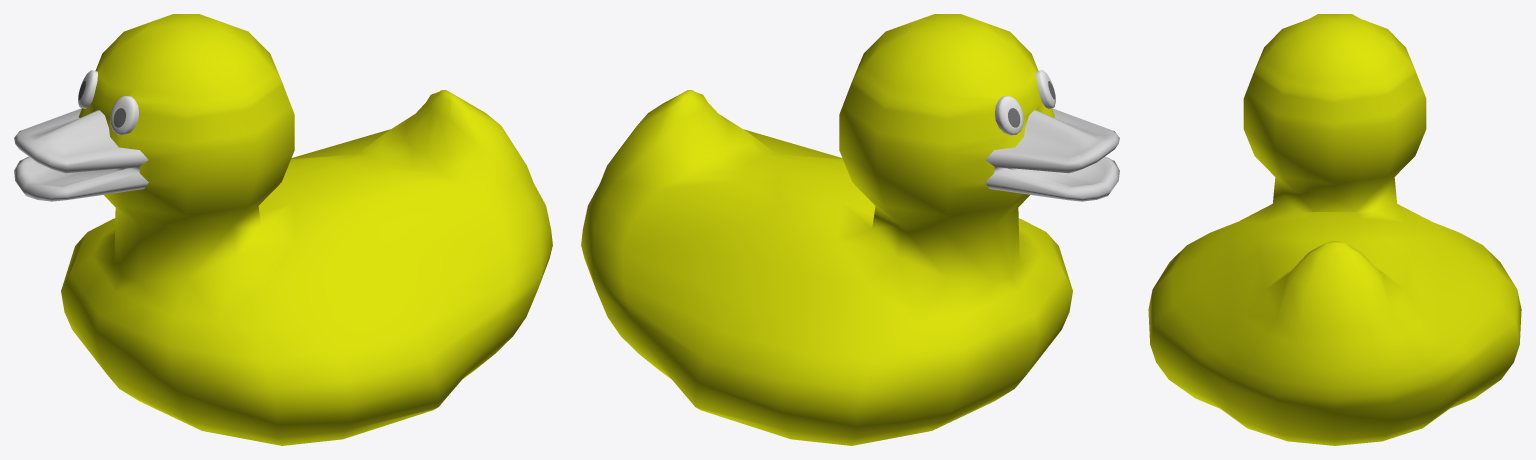
The model's file is Patito.fbx.
3 renders of one model, left to right at view 1: azimuth 30°, elevation 25°; view 2: azimuth 150°, elevation 25°; view 3: azimuth 270°, elevation 25°, orthographic. The views are drawn at different scales.
Visible parts, largest first — view 1: duck:polySurface5; view 2: duck:polySurface5; view 3: duck:polySurface5.
Part boxes in pixels (x1,y1,x2,y2): duck:polySurface5: (14, 14, 552, 445); duck:polySurface5: (581, 14, 1119, 445); duck:polySurface5: (1148, 14, 1521, 445).
Bounding box in the file's own units: 0.6274 × 0.43 × 0.4703.
